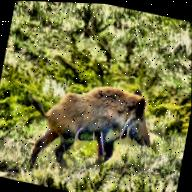boar: (16, 60, 172, 182)
